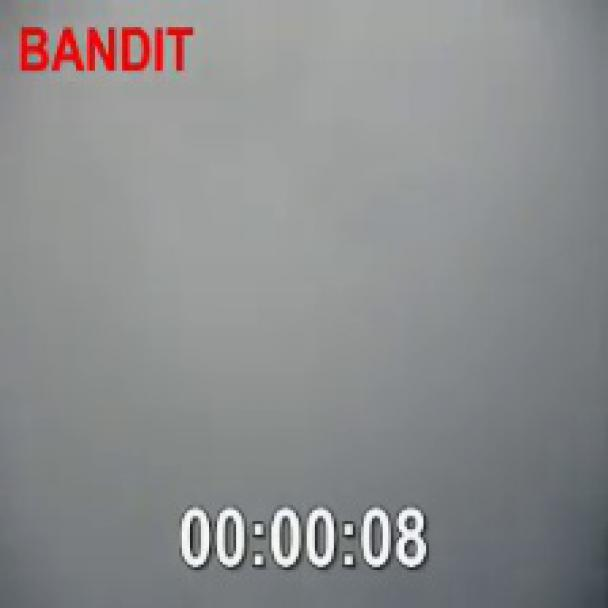smoke: (8, 5, 605, 605)
